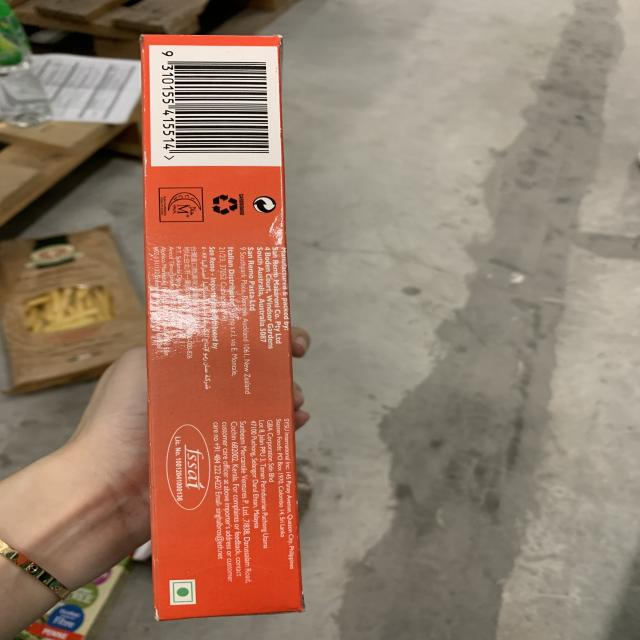object_name: (138, 33, 304, 618)
